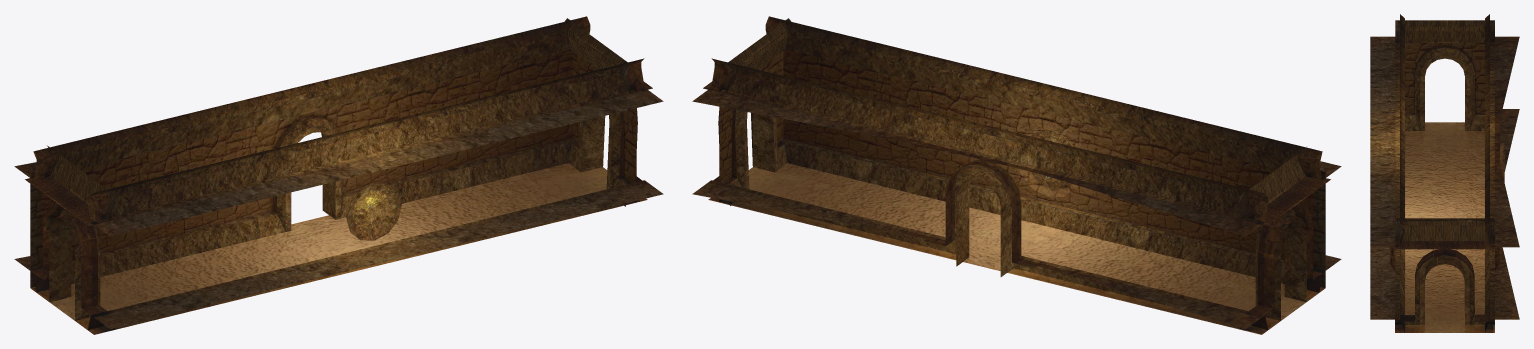
File: Corridor-transformed.glb
3 renders of one model, left to right at view 1: azimuth 30°, elevation 25°; view 2: azimuth 150°, elevation 25°; view 3: azimuth 270°, elevation 25°, orthographic. The views are drawn at different scales.
Visible parts, largest first — view 1: object1.083, door.012, col.004; view 2: object1.083, door.012, col.004; view 3: object1.083, col.004, door.012.
Boxes of the visible parts, x1,y1,x2,y2 form: object1.083: (14,16,663,329); door.012: (30,49,636,287); col.004: (30,163,647,334); object1.083: (692,16,1341,329); door.012: (719,49,1325,287); col.004: (708,163,1325,334); object1.083: (1370,14,1519,331); col.004: (1395,122,1494,332); door.012: (1390,43,1499,270).
Bounding box in the file's own units: 5.1 × 1.22 × 1.5.
6 materials, 5 textured.
